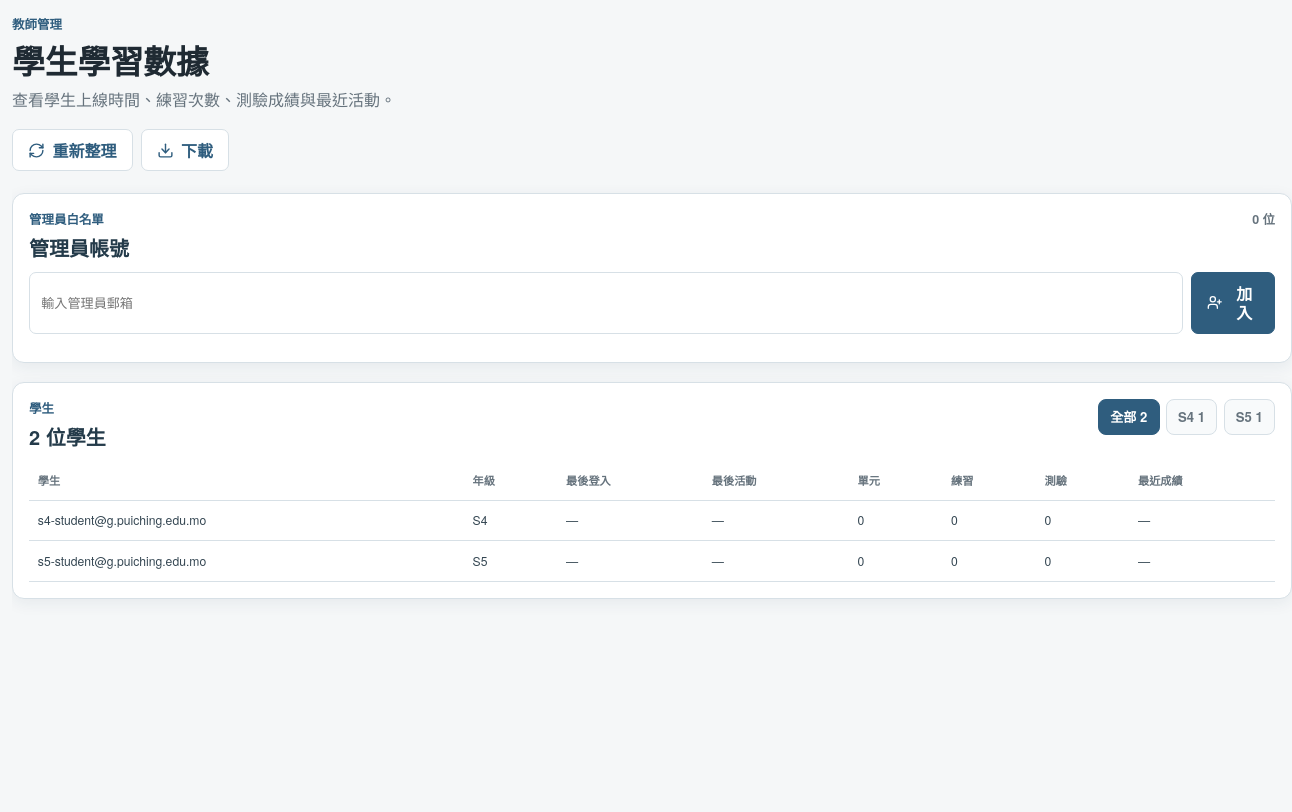
AdminPage grade filter › can view students by S4, S5, or all grades
Expected: the text "s4-student@g.puiching.edu.mo" is shown, [29,500,464,541]
Expected: the text "s5-student@g.puiching.edu.mo" is shown, [29,541,464,581]
What coordinates should you click on to do the following:
click the button "S5 1"
I would click on:
 (1249, 417)
Its box is [1224,399,1275,435].
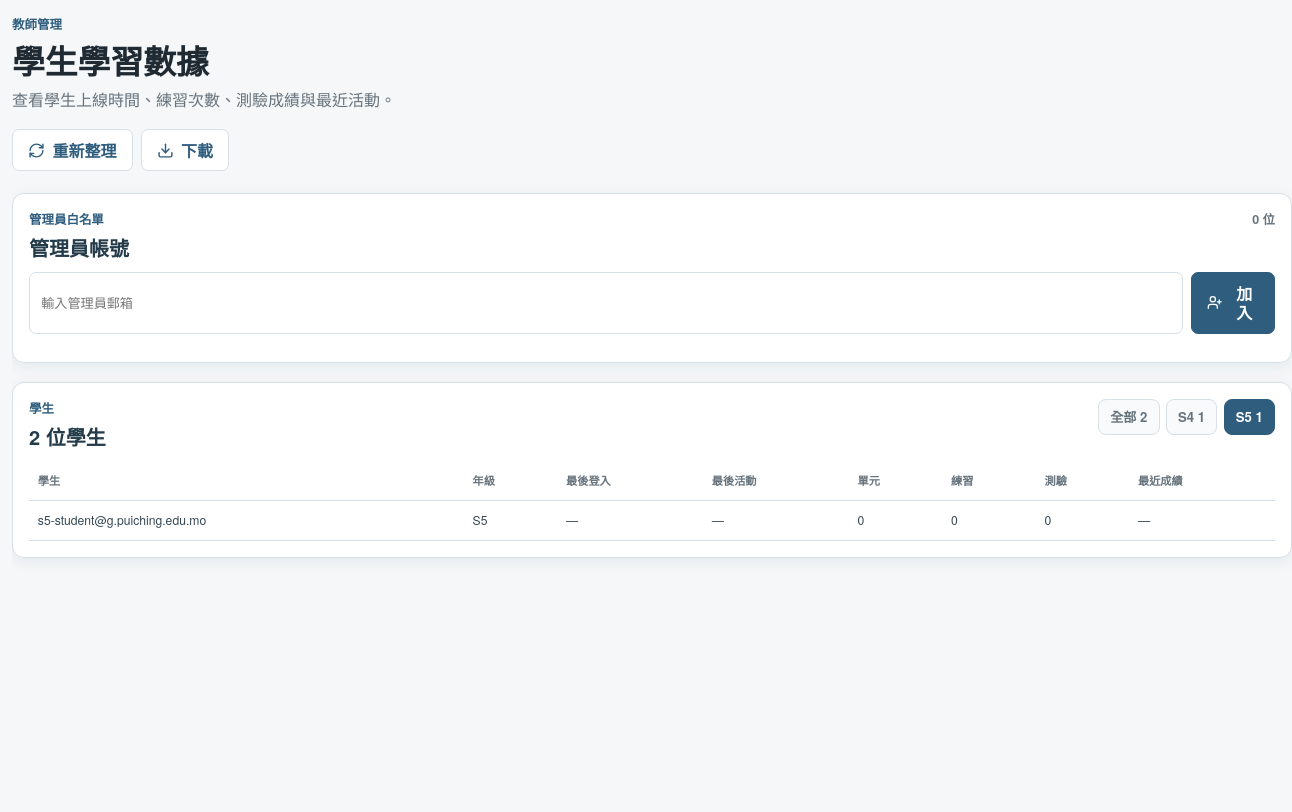
Expected: the text "s5-student@g.puiching.edu.mo" is shown, [29,500,464,541]
Result: the text "s4-student@g.puiching.edu.mo" is gone
What coordinates should you click on to do the following:
click the button "全部 2"
I would click on:
 (1129, 417)
Its box is [1098,399,1160,435].
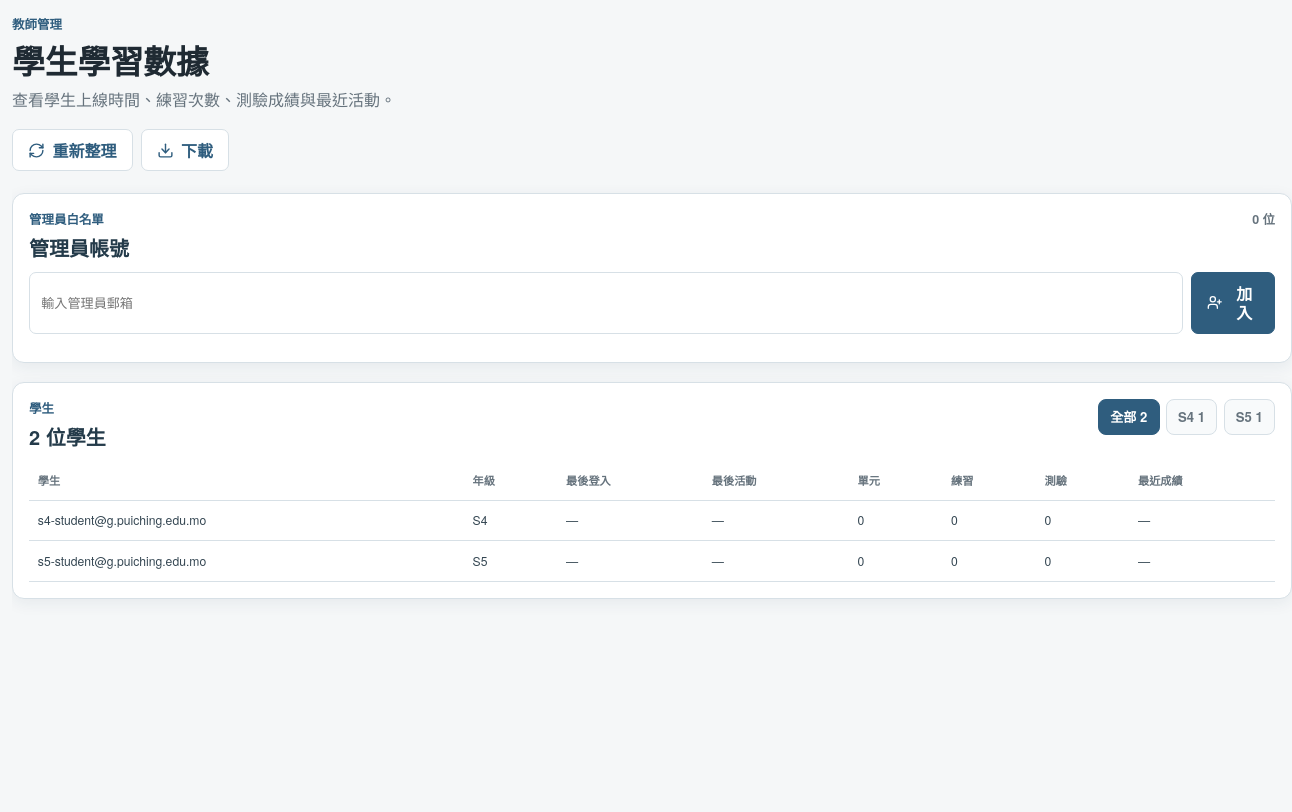
Expected: the text "s5-student@g.puiching.edu.mo" is shown, [29,541,464,581]
Result: the text "s4-student@g.puiching.edu.mo" is shown at [29,500,464,541]
